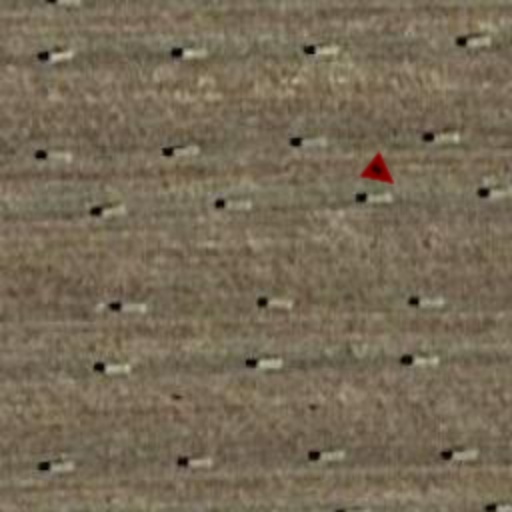triangle: (358, 150, 406, 198)
